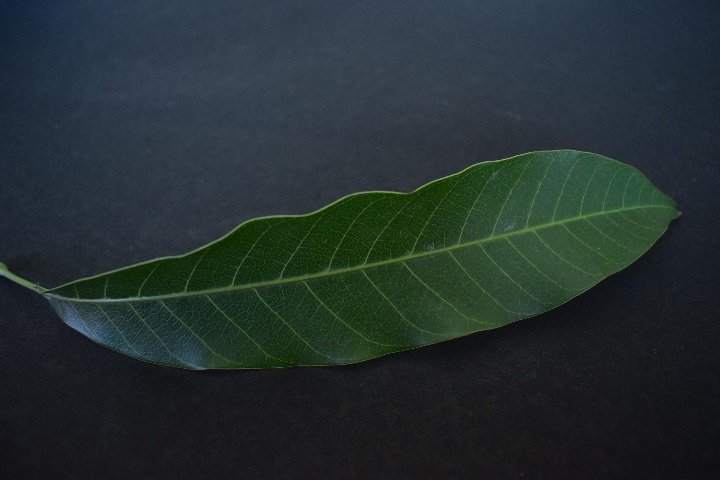healthy: (52, 146, 672, 375)
